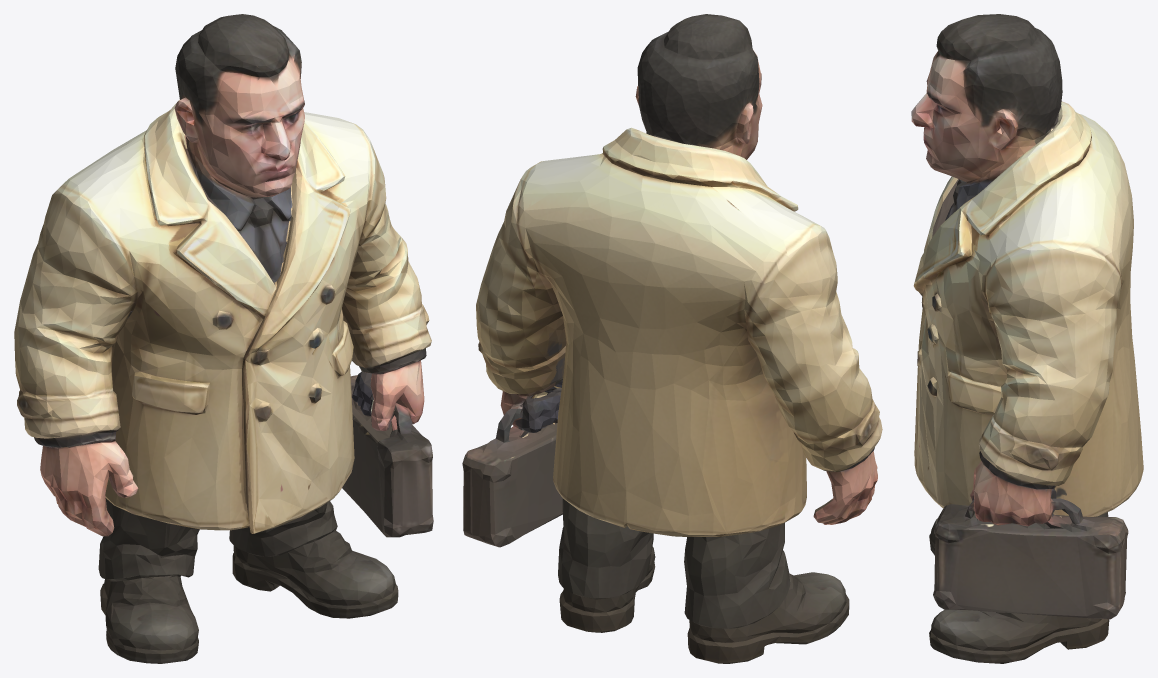
3 renders of one model, left to right at view 1: azimuth 30°, elevation 25°; view 2: azimuth 150°, elevation 25°; view 3: azimuth 270°, elevation 25°, orthographic. The views are drawn at different scales.
Visible parts, largest first — view 1: figure; view 2: figure; view 3: figure.
Part boxes in pixels (x1=…): figure: x1=14, y1=14, x2=433, y2=663; figure: x1=462, y1=14, x2=882, y2=663; figure: x1=911, y1=14, x2=1143, y2=663.
Size of the model in its own units: 0.8288 by 1.2 by 0.4354.
Materials: 1 (1 with a texture image).
